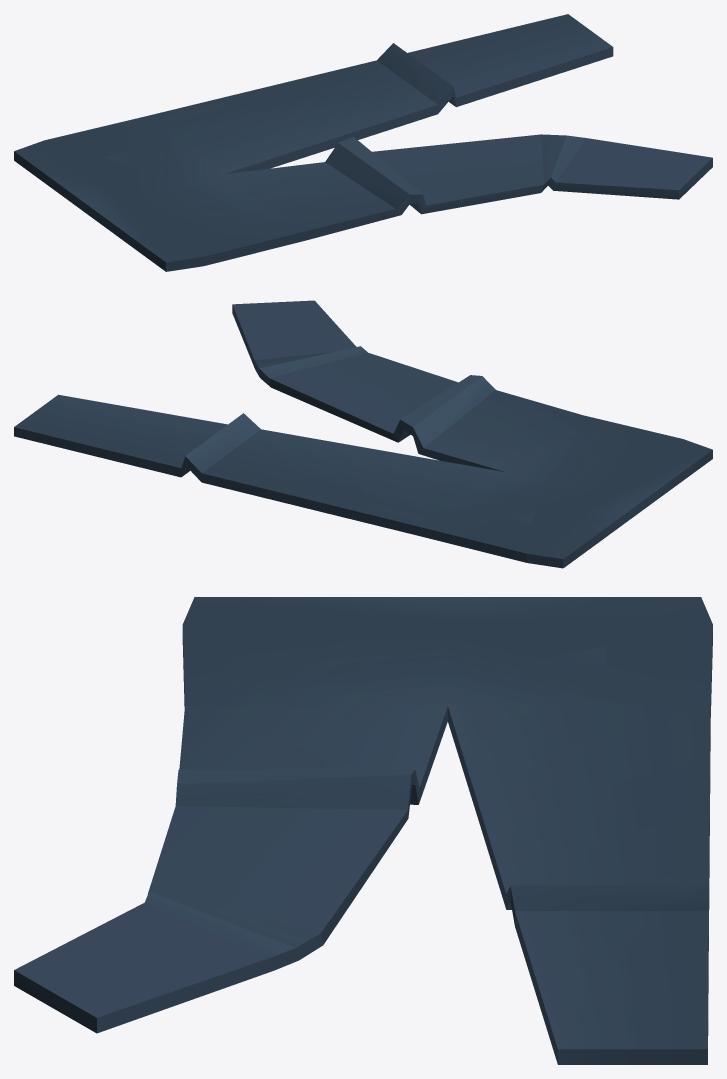
The model's file is pants.fbx.
The picture shows the model from 3 angles, top to bottom: view 1: azimuth 30°, elevation 25°; view 2: azimuth 150°, elevation 25°; view 3: azimuth 270°, elevation 25°; orthographic projection. The views are drawn at different scales.
Parts seen in each view (by area): view 1: Cube.001; view 2: Cube.001; view 3: Cube.001.
Boxes of the visible parts, x1=… form: Cube.001: x1=14, y1=14, x2=712, y2=271; Cube.001: x1=14, y1=300, x2=712, y2=568; Cube.001: x1=14, y1=597, x2=712, y2=1064.
Size of the model in its own units: 267 by 13.01 by 175.
Materials: 1 (1 with a texture image).
